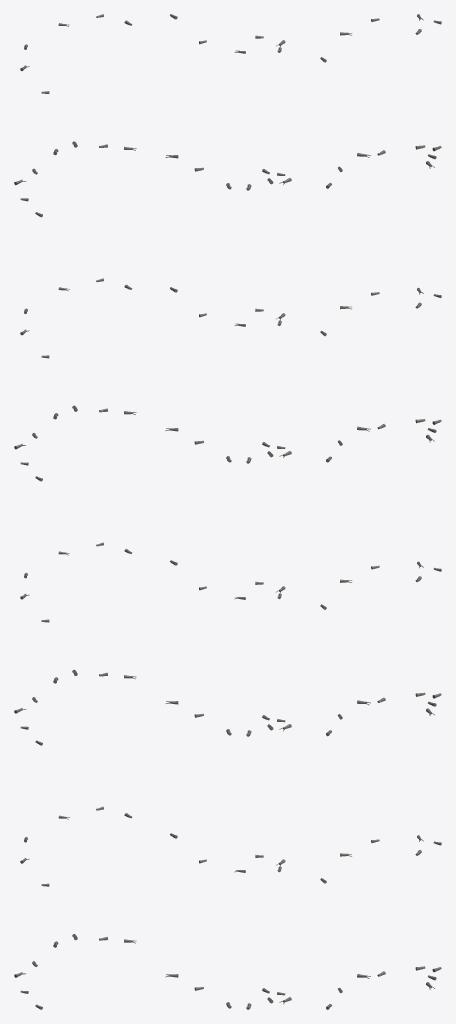
File: Circle3Folk0.obj
3 renders of one model, left to right at view 1: azimuth 30°, elevation 25°; view 2: azimuth 210°, elevation 25°; view 3: azimuth 330°, elevation 25°, orthographic. The views are drawn at different scales.
Parts seen in each view (by area): view 1: Circle3Folk0; view 2: Circle3Folk0; view 3: Circle3Folk0.
Boxes of the visible parts, x1,y1,x2,y2 form: Circle3Folk0: (14, 14, 136, 1009); Circle3Folk0: (165, 14, 291, 1009); Circle3Folk0: (320, 14, 441, 1009).
Bounding box in the file's own units: 29.12 × 256 × 21.9.
Materials: 1 (1 with a texture image).
